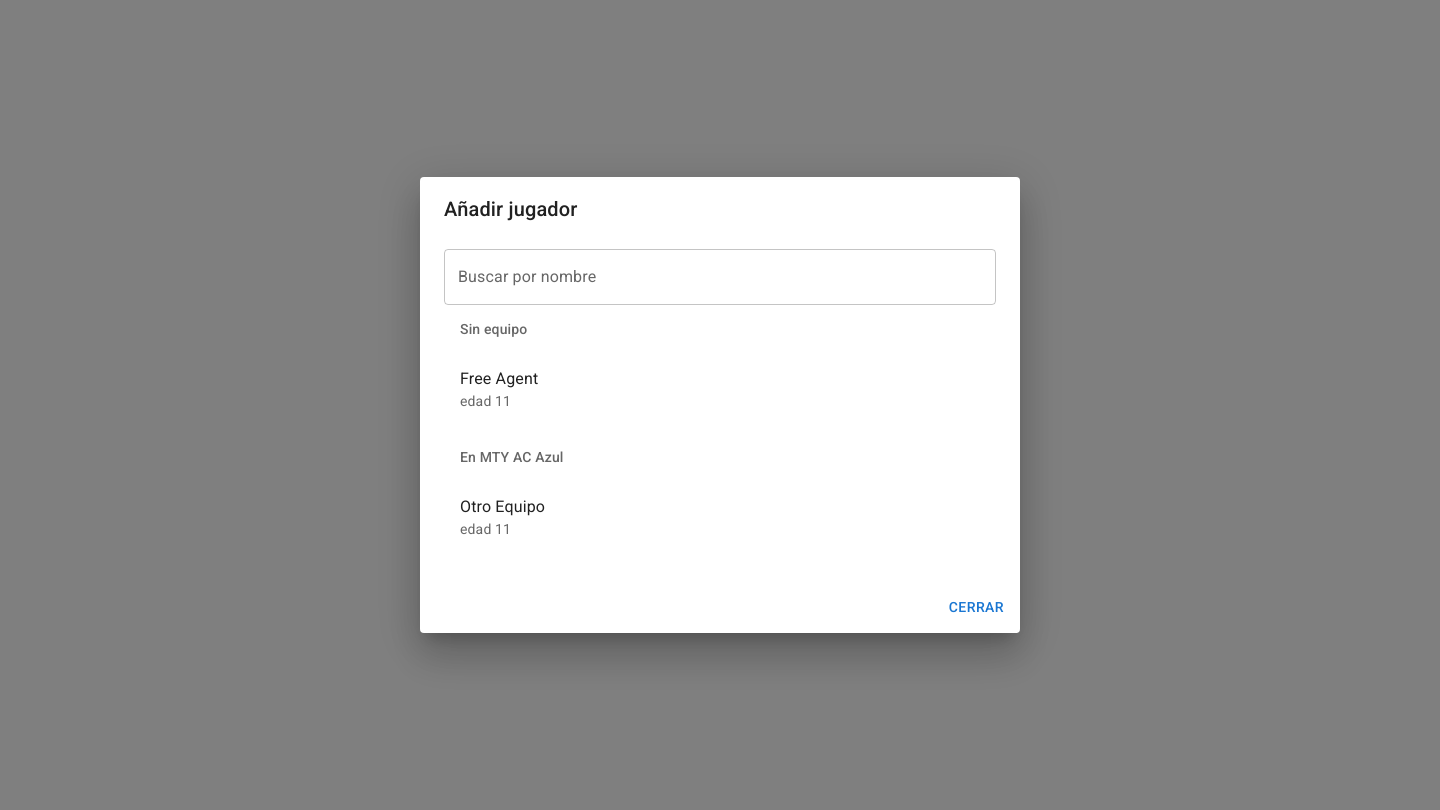
search narrows the eligible list
The width and height of the screenshot is (1440, 810).
Expected: the text "Free Agent" is shown, [460,369,538,388]
Type "otro" into the field labelled "Buscar por nombre" at [720, 277], box [444,249,996,305]
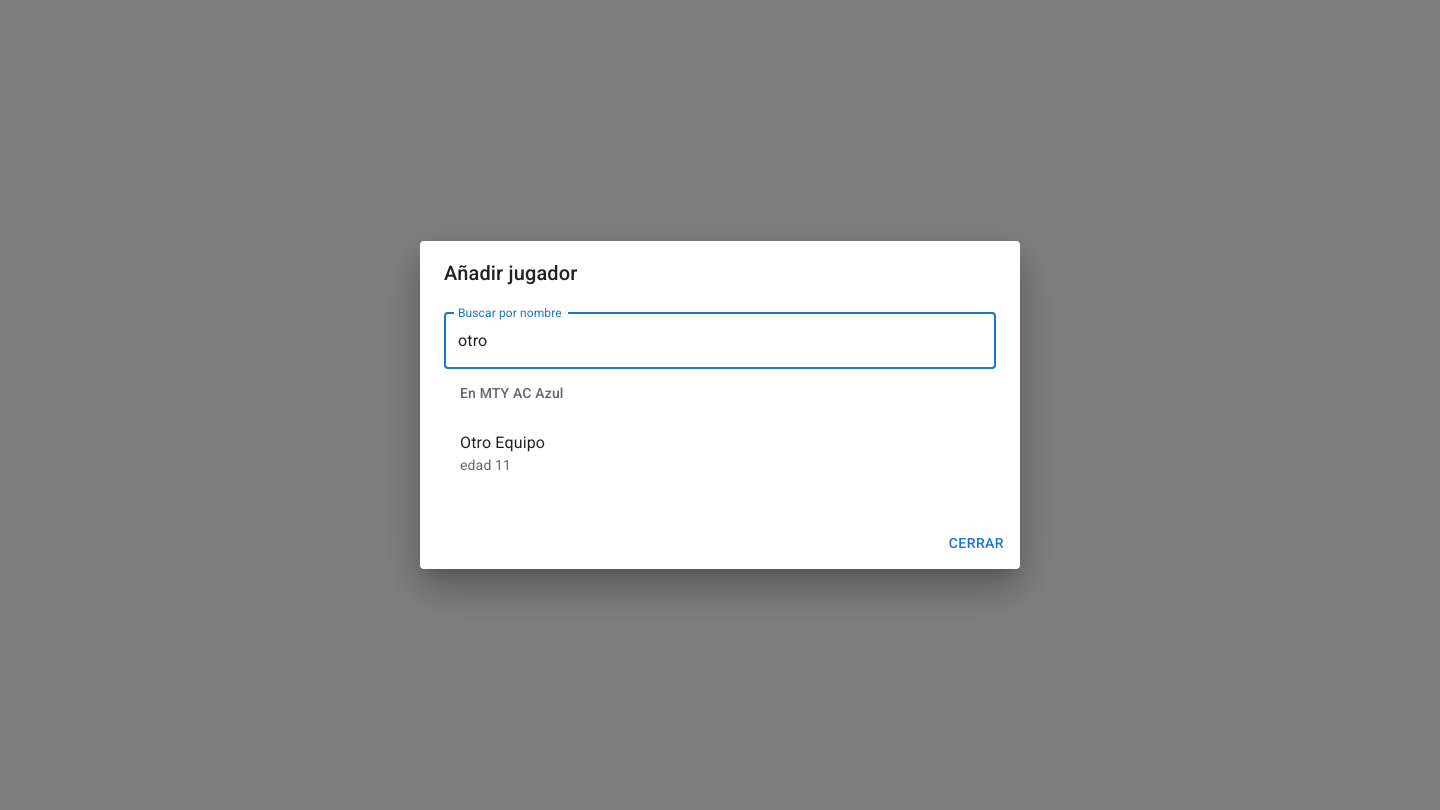
Expected: the text "Otro Equipo" is shown, [460,433,545,452]
Result: the button "Free Agent" is gone
